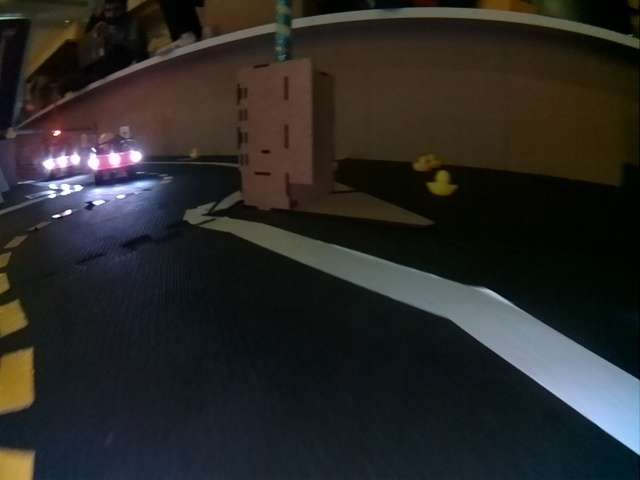Duckie: (427, 173, 457, 196), (413, 156, 430, 171), (426, 154, 441, 165), (189, 149, 199, 158)
Duckiebot: (89, 143, 142, 183), (40, 143, 82, 178)
Traffic light: (52, 130, 61, 138)
